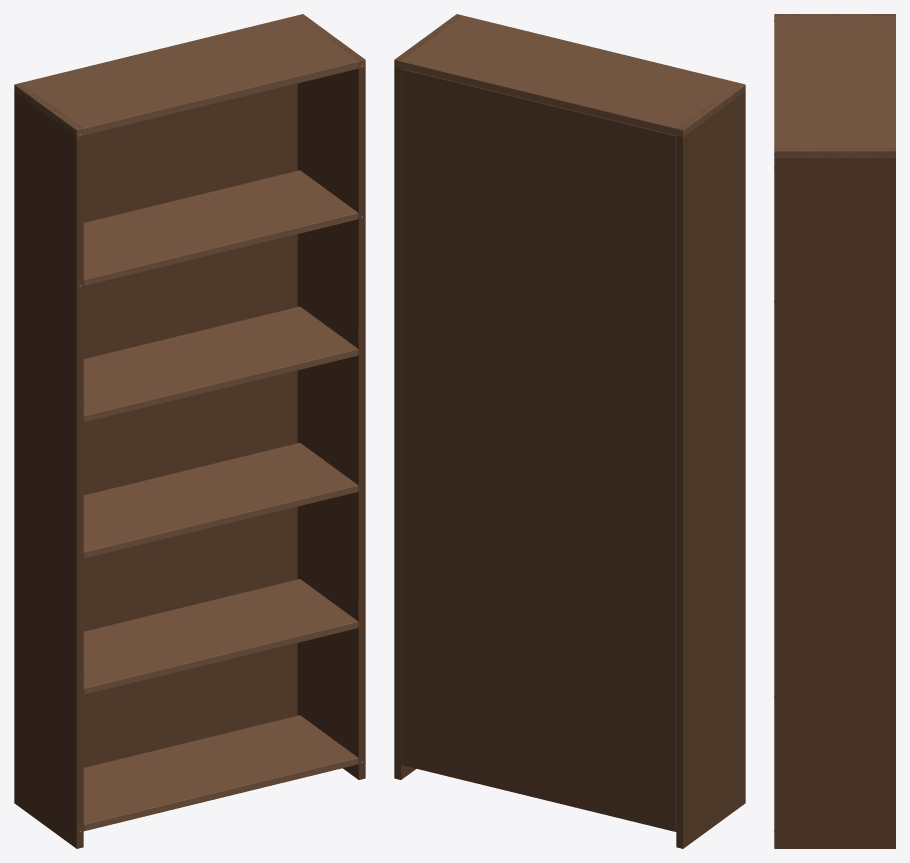
The model's file is bookcase-tall-750b8e1882a1.glb.
The picture shows the model from 3 angles, left to right: view 1: azimuth 30°, elevation 25°; view 2: azimuth 150°, elevation 25°; view 3: azimuth 270°, elevation 25°; orthographic projection. The views are drawn at different scales.
Parts seen in each view (by area): view 1: wood-walnut-dark, wood-walnut; view 2: wood-walnut-dark, wood-walnut; view 3: wood-walnut-dark, wood-walnut.
Part boxes in pixels (x1,y1,x2,y2): wood-walnut-dark: (14,14,365,848); wood-walnut: (14,14,365,831); wood-walnut-dark: (394,14,745,848); wood-walnut: (394,14,745,137); wood-walnut-dark: (774,14,895,848); wood-walnut: (774,14,895,157).
Size of the model in its own units: 0.8 by 1.9 by 0.3006.
